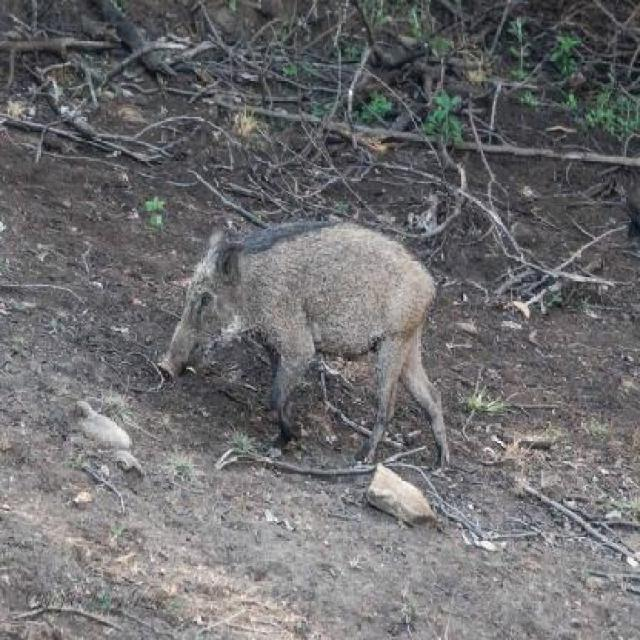pig: (157, 215, 451, 473)
